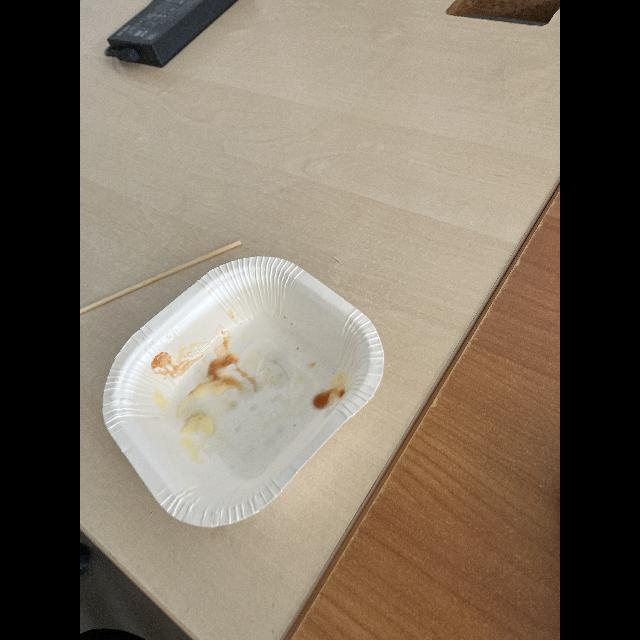cardboard_bowl: (102, 253, 392, 527)
stick: (80, 238, 244, 320)
